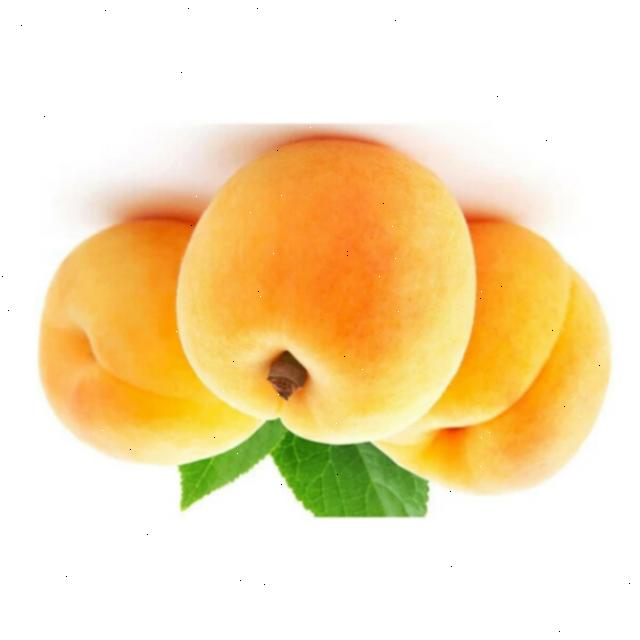kayisi: (172, 130, 477, 446), (372, 216, 612, 497), (28, 204, 265, 471)
kayisi yapragi: (270, 436, 437, 521), (176, 418, 270, 520)
